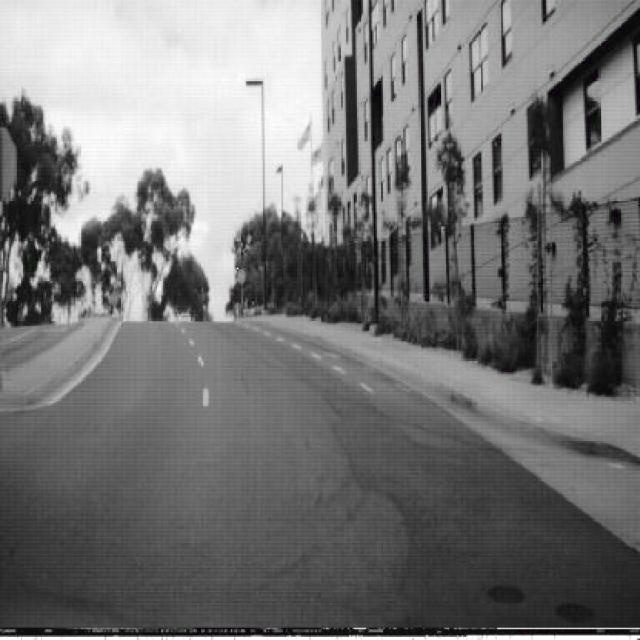stop: (237, 266, 246, 285)
